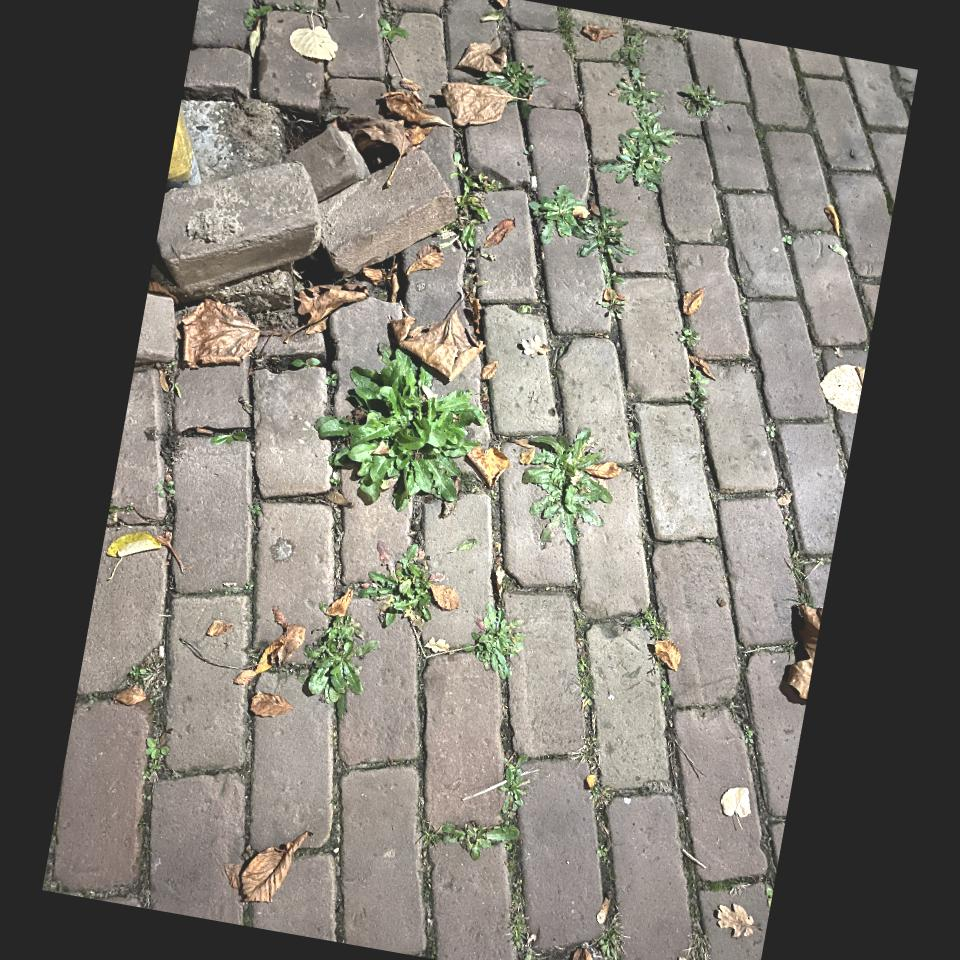weed: (318, 343, 496, 516), (471, 767, 570, 960), (509, 399, 634, 544), (592, 52, 690, 198), (276, 596, 394, 702), (524, 175, 624, 266), (360, 540, 462, 629), (427, 159, 507, 270), (430, 814, 546, 864), (576, 899, 637, 960), (471, 610, 519, 684), (502, 58, 552, 110), (130, 645, 166, 701), (686, 80, 720, 122), (142, 737, 167, 780), (684, 369, 707, 412), (378, 18, 410, 43), (679, 327, 700, 349)
